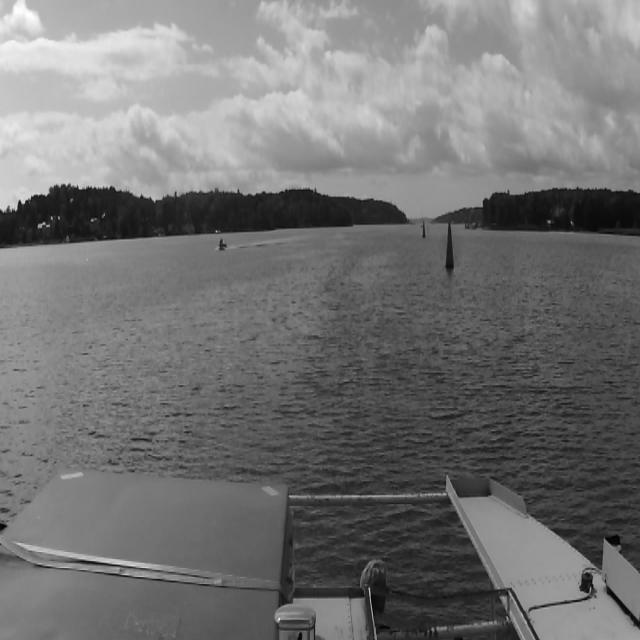buoy: (447, 223, 455, 267), (422, 220, 426, 236)
ship: (218, 238, 226, 250)
